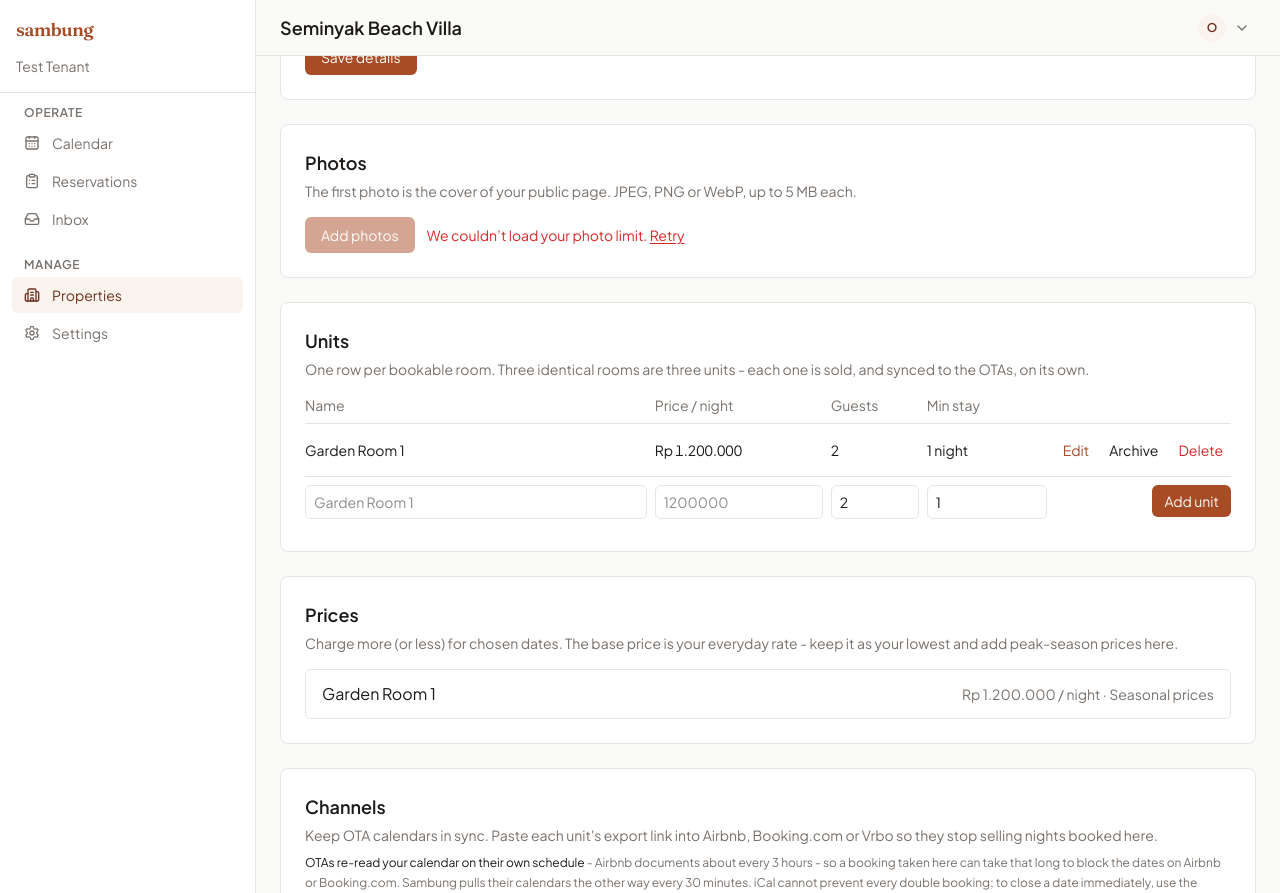
units section (§4.5) › surfaces a network failure on save
(page scrolled)
Click the button "Edit" at (1076, 450), box top-left (1055, 436), bottom-right (1097, 464)
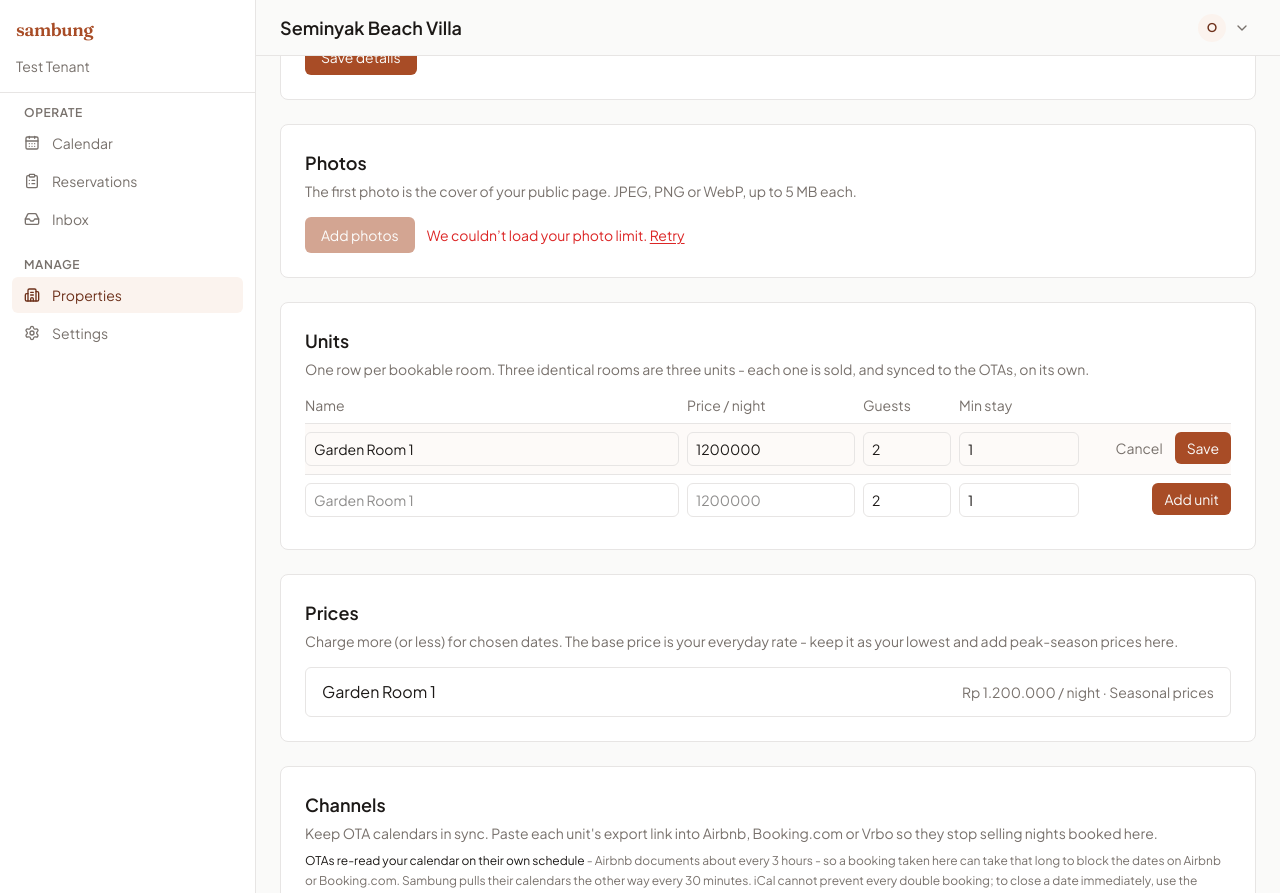
Click the button "Save" at (1203, 448), box top-left (1175, 432), bottom-right (1231, 464)
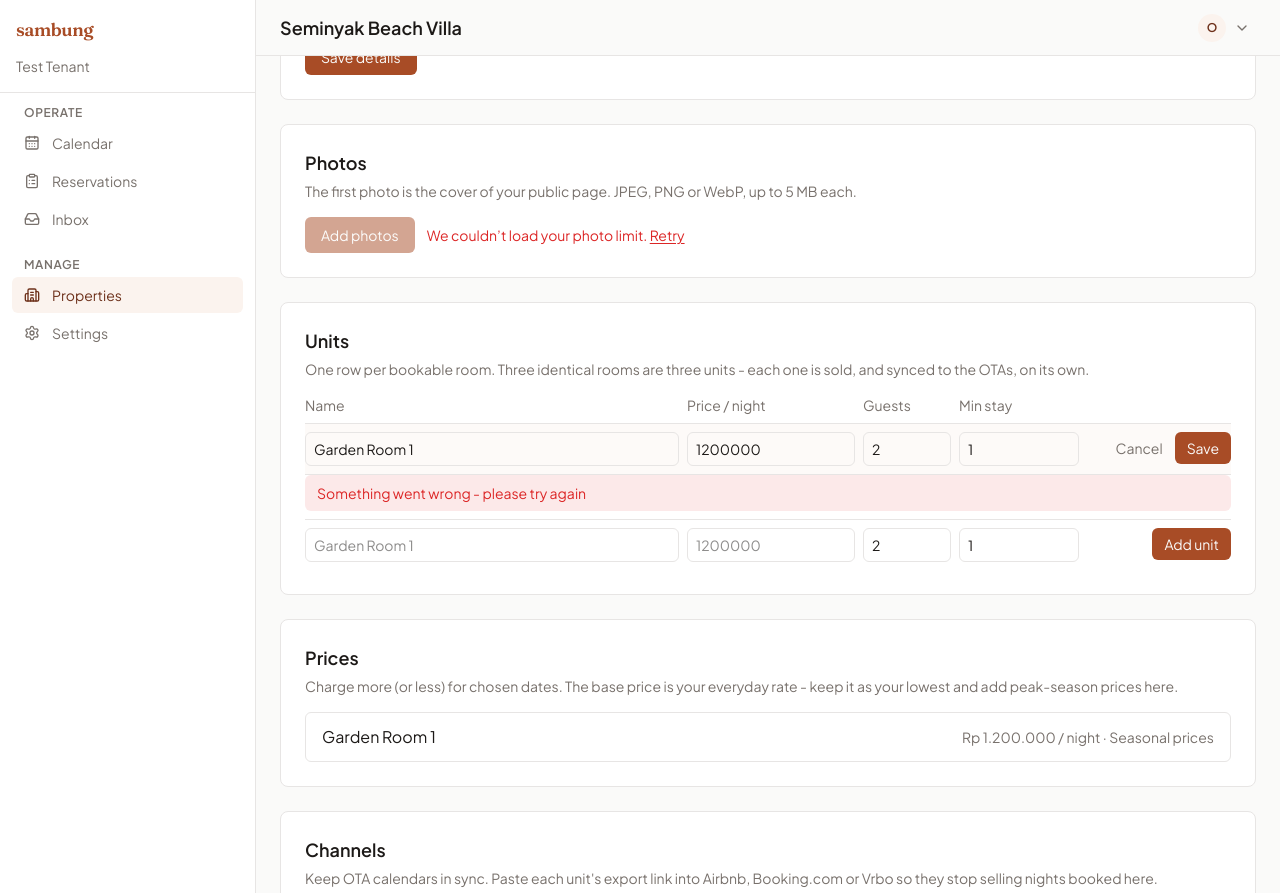
Expected: the text "Something went wrong - please try again" is shown, top-left (305, 475), bottom-right (1231, 511)
